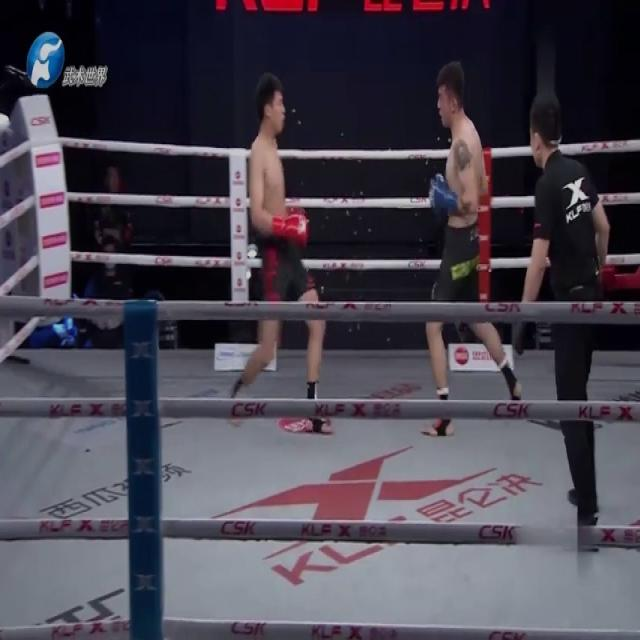fight: (230, 61, 522, 440)
non-fight: (511, 75, 614, 541)
